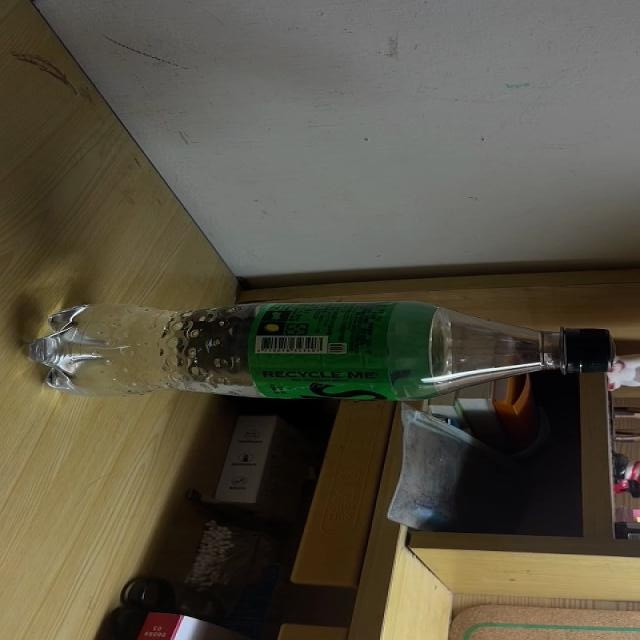Sprite: (29, 302, 611, 401)
